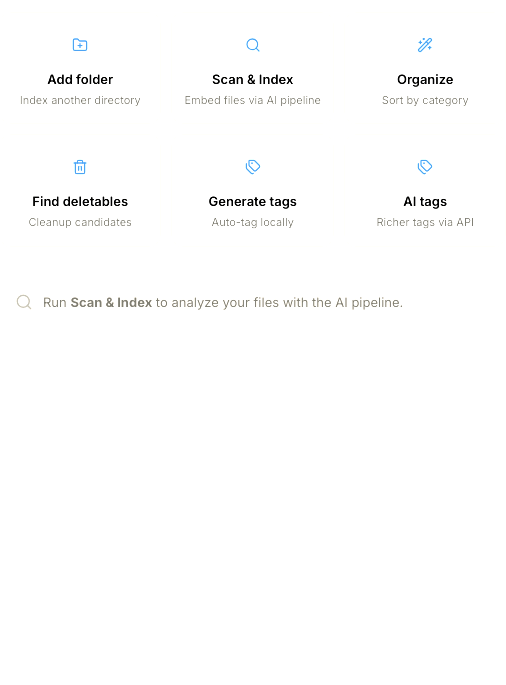
Test case: ScanView enhanced progress & debug panel › shows stage and stats in the debug panel from poll payloads
This screenshot has width=506, height=685.
Click the button "Scan & Index Embed files via AI pipeline".
click(253, 68)  # box [172,12,334,124]
Wait 1100 ms
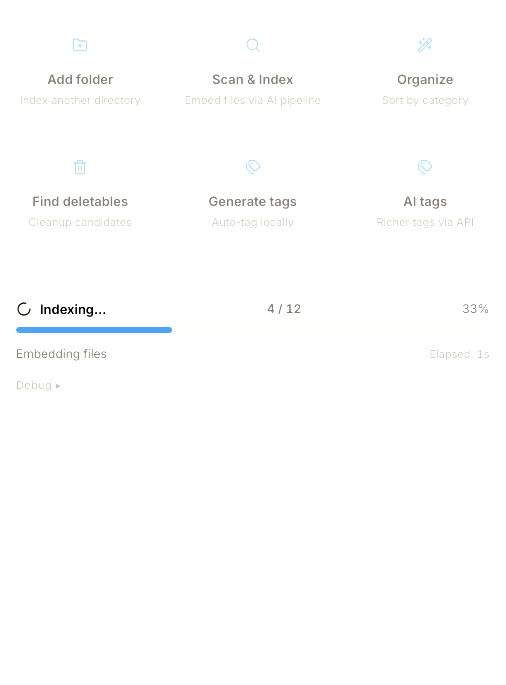
Click the text "Debug ▸".
click(39, 385)  # box [16,378,61,392]
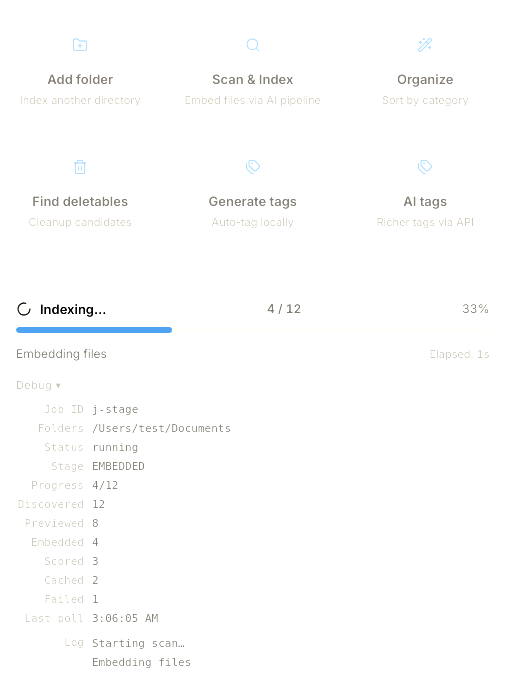
Check: the text "Stage" is shown, box [51,460,84,473]
Check: the text "EMBEDDED" is shown, box [92,458,145,475]
Check: the text "Discovered" is shown, box [16,496,84,513]
